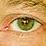eye: (18, 19, 34, 31)
